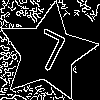L: (22, 27, 69, 81)
